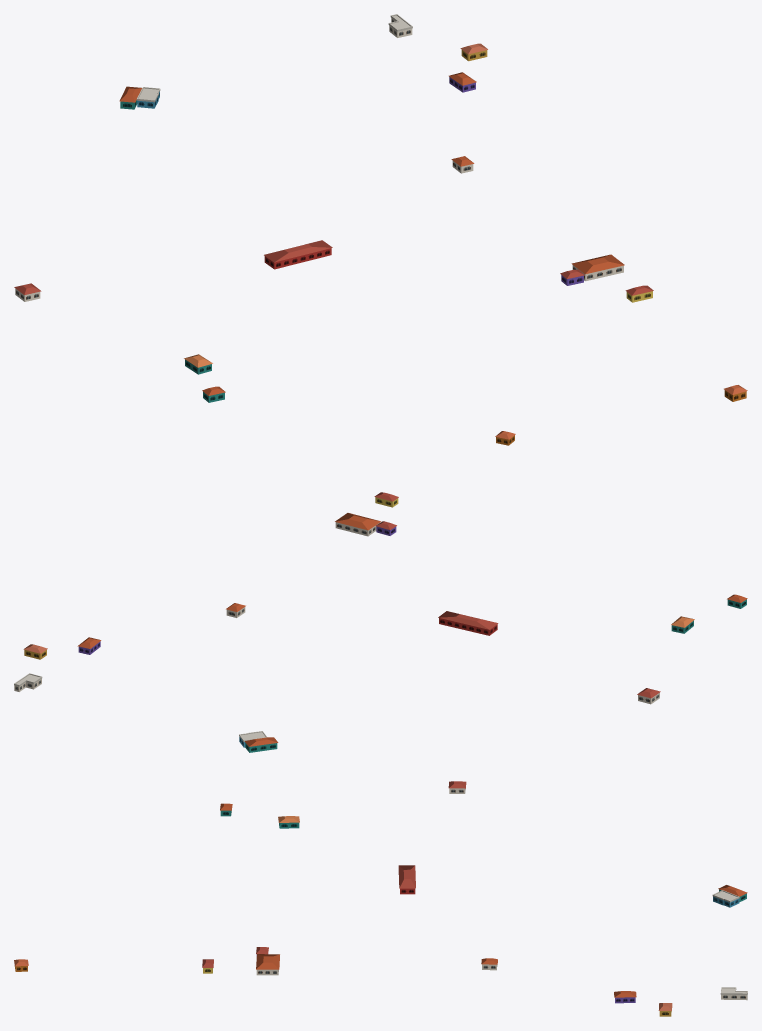
The model's file is msb_oranjestad_m12_m3.glb.
The picture shows the model from 3 angles, top to bottom: view 1: azimuth 30°, elevation 25°; view 2: azimuth 150°, elevation 25°; view 3: azimuth 270°, elevation 25°; orthographic projection. The views are drawn at different scales.
Parts seen in each view (by area): view 1: msb_oranjestad_m12_m3_lod0; view 2: msb_oranjestad_m12_m3_lod0; view 3: msb_oranjestad_m12_m3_lod0.
Boxes of the visible parts, x1,y1,x2,y2 form: msb_oranjestad_m12_m3_lod0: [14, 14, 747, 402]; msb_oranjestad_m12_m3_lod0: [14, 431, 747, 752]; msb_oranjestad_m12_m3_lod0: [14, 781, 747, 1016].
Size of what is drawn, in the model's own units: 293 by 12.87 by 389.
Materials: 3 (1 with a texture image).
